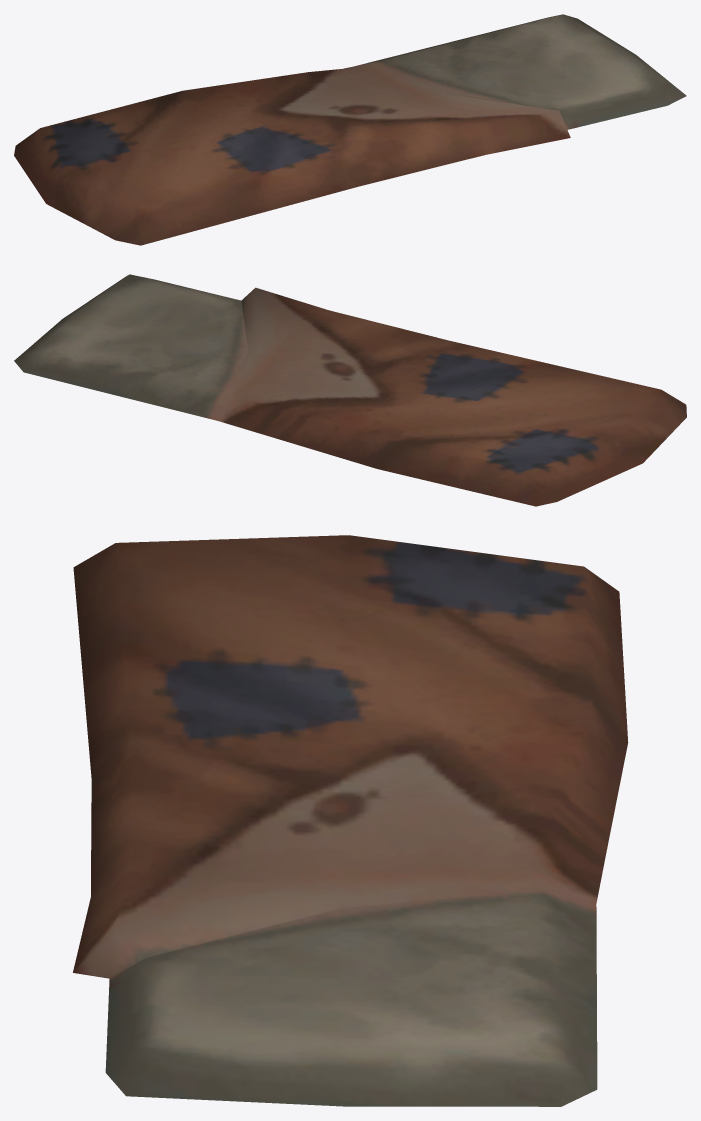
The model's file is beizi.FBX.
The picture shows the model from 3 angles, top to bottom: view 1: azimuth 30°, elevation 25°; view 2: azimuth 150°, elevation 25°; view 3: azimuth 270°, elevation 25°; orthographic projection. The views are drawn at different scales.
Parts seen in each view (by area): view 1: 对象002; view 2: 对象002; view 3: 对象002.
Part boxes in pixels (x1,y1,x2,y2): 对象002: (14, 14, 686, 245); 对象002: (14, 274, 686, 506); 对象002: (73, 535, 628, 1106).
Bounding box in the file's own units: 3.74 × 0.1692 × 1.55.
